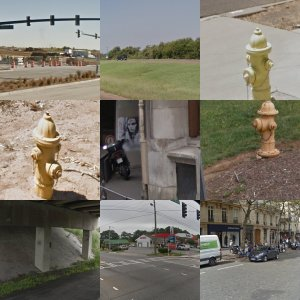樓梯: (7, 110, 39, 136)
汽車: (134, 150, 155, 173), (1, 272, 26, 288), (46, 62, 67, 81), (114, 152, 133, 167)
紅綠燈: (224, 208, 263, 278), (56, 242, 88, 262), (111, 207, 126, 232), (125, 242, 138, 262), (1, 228, 13, 249), (19, 214, 31, 233)
